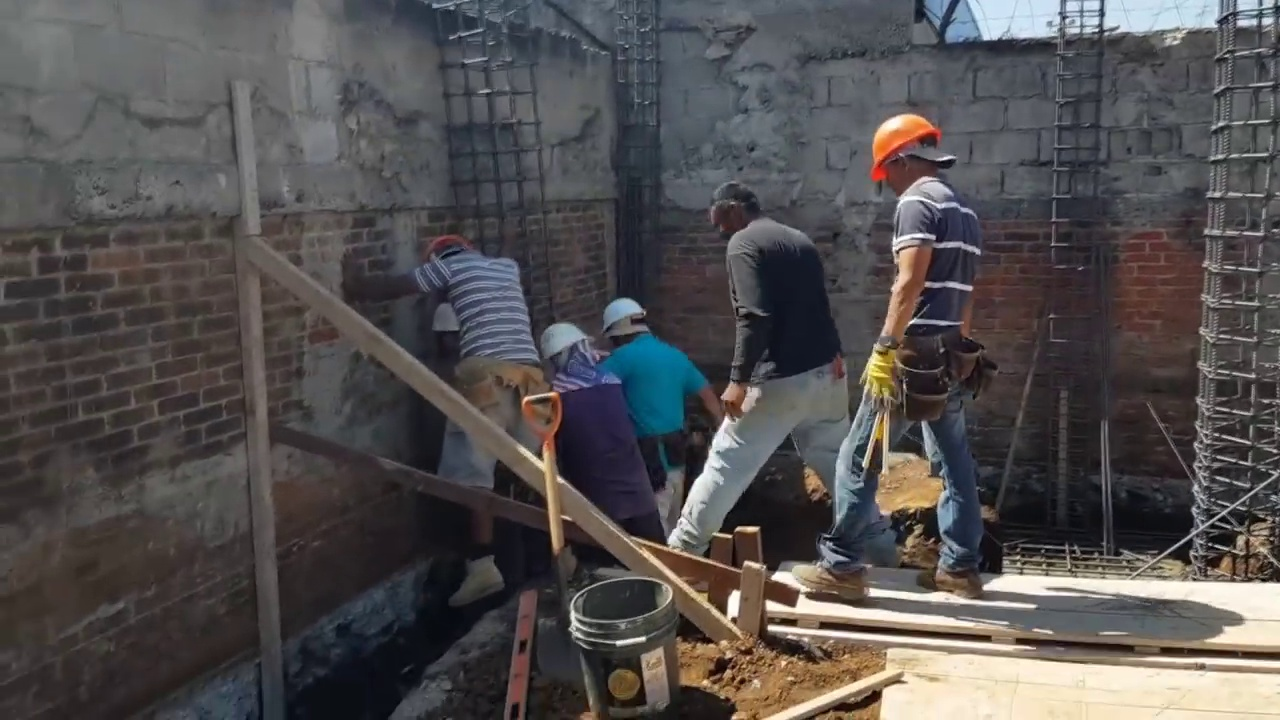helmet: (866, 112, 943, 179), (601, 295, 646, 340), (540, 321, 588, 360), (420, 232, 476, 263)
helmet-off: (710, 184, 760, 237)
helmet-on: (864, 109, 955, 197), (539, 321, 599, 383), (601, 297, 648, 351)
person: (795, 108, 992, 583), (667, 183, 846, 559), (384, 232, 531, 553), (599, 286, 720, 535), (536, 320, 663, 534)
